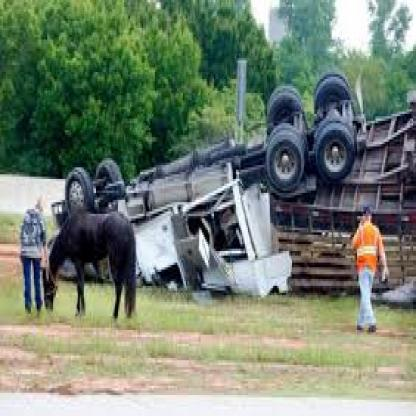accident: (51, 64, 416, 306)
